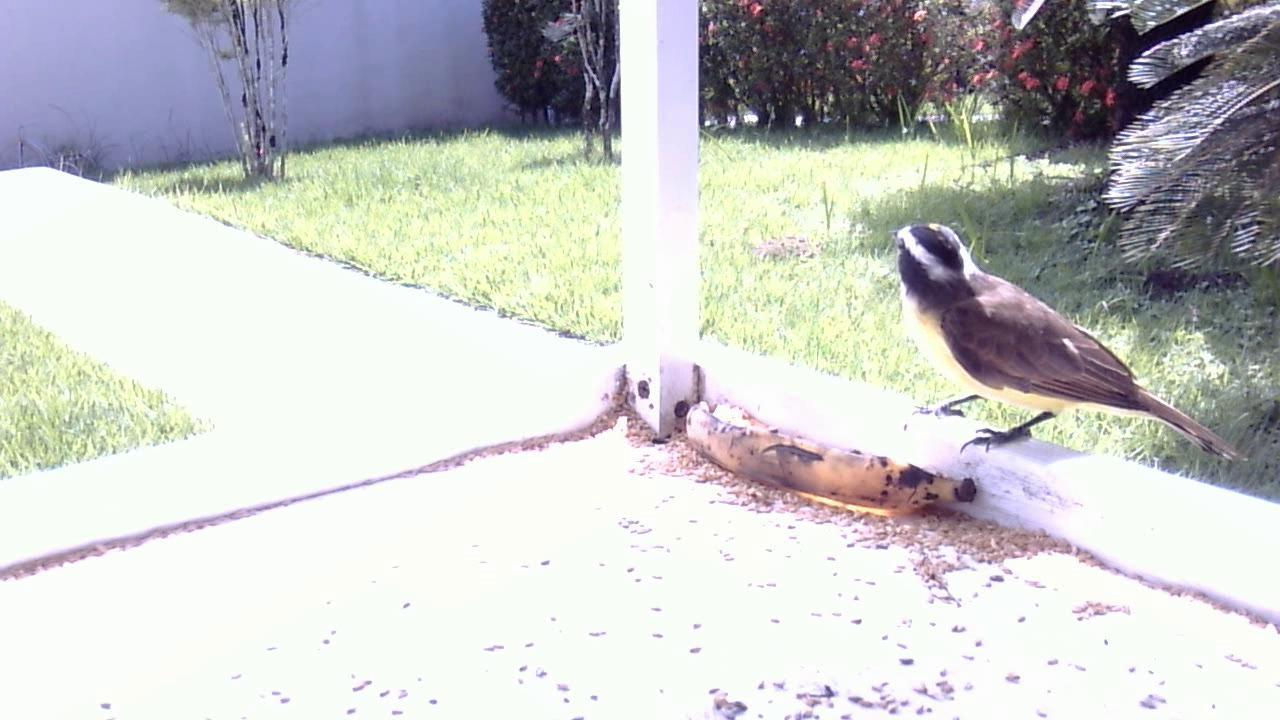bem_te_vi: (881, 210, 1258, 485)
